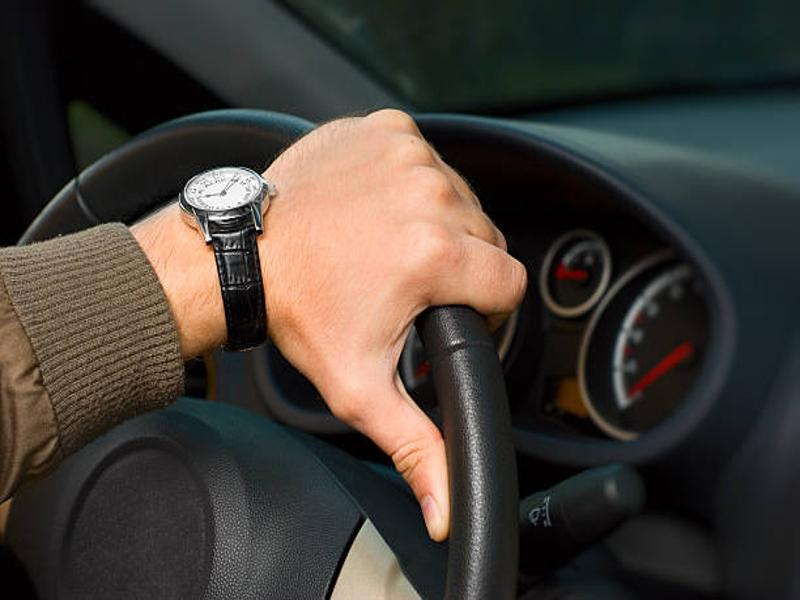watch: (177, 161, 282, 356)
